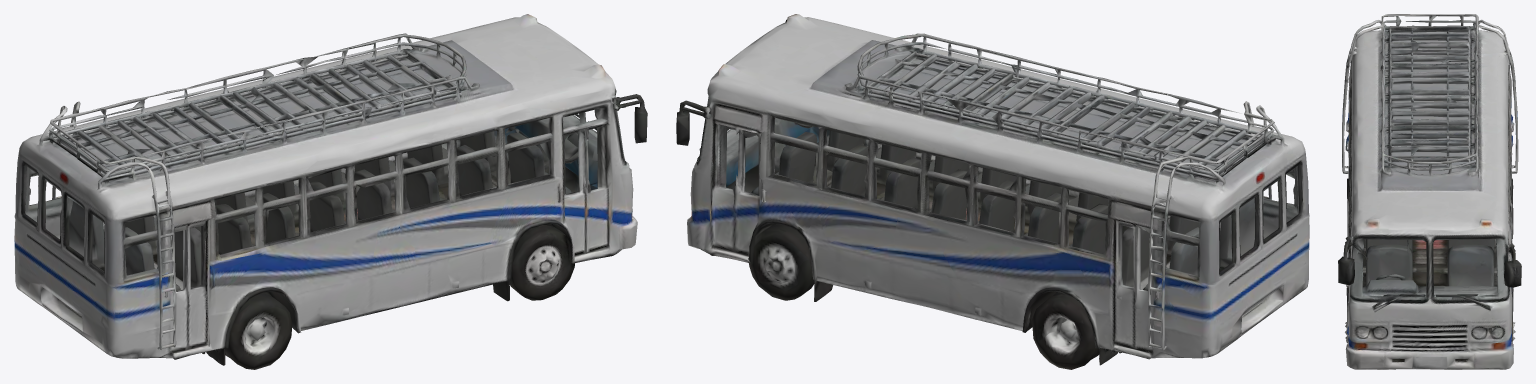
The model's file is pbus.glb.
The picture shows the model from 3 angles, left to right: view 1: azimuth 30°, elevation 25°; view 2: azimuth 150°, elevation 25°; view 3: azimuth 270°, elevation 25°; orthographic projection. The views are drawn at different scales.
Visible parts, largest first — view 1: tripo_node_4e77e796-a625-444f-8c66-4c2ce7cc06a3; view 2: tripo_node_4e77e796-a625-444f-8c66-4c2ce7cc06a3; view 3: tripo_node_4e77e796-a625-444f-8c66-4c2ce7cc06a3.
Boxes of the visible parts, x1,y1,x2,y2 form: tripo_node_4e77e796-a625-444f-8c66-4c2ce7cc06a3: (14, 14, 647, 369); tripo_node_4e77e796-a625-444f-8c66-4c2ce7cc06a3: (676, 14, 1309, 369); tripo_node_4e77e796-a625-444f-8c66-4c2ce7cc06a3: (1338, 14, 1521, 369).
Bounding box in the file's own units: 1 × 0.4021 × 0.3675.
Materials: 1 (1 with a texture image).
